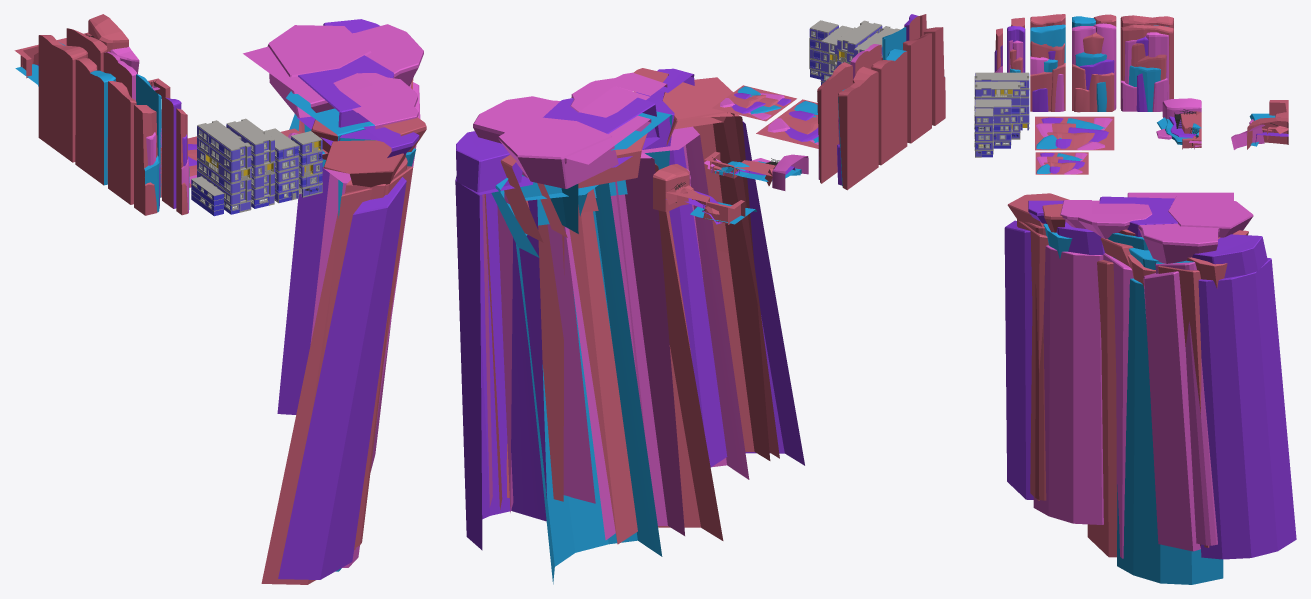
Rendered from SM_SpaceModules.fbx.
3 views of the same model, side by side, from view 1: azimuth 30°, elevation 25°; view 2: azimuth 150°, elevation 25°; view 3: azimuth 270°, elevation 25° (orthographic). The views are drawn at different scales.
Visible parts, largest first — view 1: SM_Cliff, SM_Rock_Thick_04, SM_Rock_Thick_03, SM_Rock_Thick_02, SM_Rock_Thick_01, SM_Stairs_02, SM_Rock_Slim_02, SM_Rock_Slim_01, SM_BuildingWallx4_05, SM_Rock_Slim_03, SM_BuildingWallx3__5, SM_Rock_Slim_04 (+7 smaller); view 2: SM_Cliff, SM_Rock_Thick_04, SM_Rock_Thick_03, SM_Stairs_02, SM_Rock_Thick_02, SM_Rock_Slim_05, SM_Stairs_01, SM_FloorLarge, SM_FloorSmall, SM_Rock_Thick_01, SM_BuildingWallx3__5; view 3: SM_Cliff, SM_Rock_Slim_05, SM_Rock_Slim_04, SM_Rock_Slim_03, SM_FloorLarge, SM_Stairs_01, SM_Stairs_02, SM_FloorSmall, SM_Rock_Slim_02, SM_BuildingWallx3__5, SM_BuildingWallx4_05, SM_Rock_Thick_04 (+2 smaller).
Part boxes in pixels (<box>): SM_Cliff: <box>243,19,426,584</box>; SM_Rock_Thick_04: <box>38,35,87,162</box>; SM_Rock_Thick_03: <box>75,57,115,185</box>; SM_Rock_Thick_02: <box>108,81,136,204</box>; SM_Rock_Thick_01: <box>134,105,160,215</box>; SM_Stairs_02: <box>14,14,139,86</box>; SM_Rock_Slim_02: <box>162,97,181,208</box>; SM_Rock_Slim_01: <box>176,108,189,215</box>; SM_BuildingWallx4_05: <box>197,120,251,161</box>; SM_Rock_Slim_03: <box>136,74,161,197</box>; SM_BuildingWallx3__5: <box>226,118,275,155</box>; SM_Rock_Slim_04: <box>103,51,136,100</box>; SM_Cliff: <box>455,68,804,584</box>; SM_Rock_Thick_04: <box>837,66,878,190</box>; SM_Rock_Thick_03: <box>871,49,907,165</box>; SM_Stairs_02: <box>653,164,756,224</box>; SM_Rock_Thick_02: <box>903,33,931,143</box>; SM_Rock_Slim_05: <box>817,62,852,183</box>; SM_Stairs_01: <box>704,151,808,190</box>; SM_FloorLarge: <box>756,99,818,148</box>; SM_FloorSmall: <box>712,85,796,121</box>; SM_Rock_Thick_01: <box>923,27,945,125</box>; SM_BuildingWallx3__5: <box>837,20,882,54</box>; SM_Cliff: <box>1004,192,1296,584</box>; SM_Rock_Slim_05: <box>1120,24,1173,111</box>; SM_Rock_Slim_04: <box>1072,23,1116,112</box>; SM_Rock_Slim_03: <box>1030,24,1065,111</box>; SM_FloorLarge: <box>1035,116,1114,150</box>; SM_Stairs_01: <box>1156,98,1201,149</box>; SM_Stairs_02: <box>1231,100,1288,149</box>; SM_FloorSmall: <box>1035,152,1088,174</box>; SM_Rock_Slim_02: <box>1007,26,1025,72</box>; SM_BuildingWallx3__5: <box>974,81,1020,97</box>; SM_BuildingWallx4_05: <box>974,72,1029,88</box>; SM_Rock_Thick_04: <box>1120,15,1173,28</box>.
Size of the model in its own units: 19860 by 28394 by 18180.
11 materials, 1 textured.
